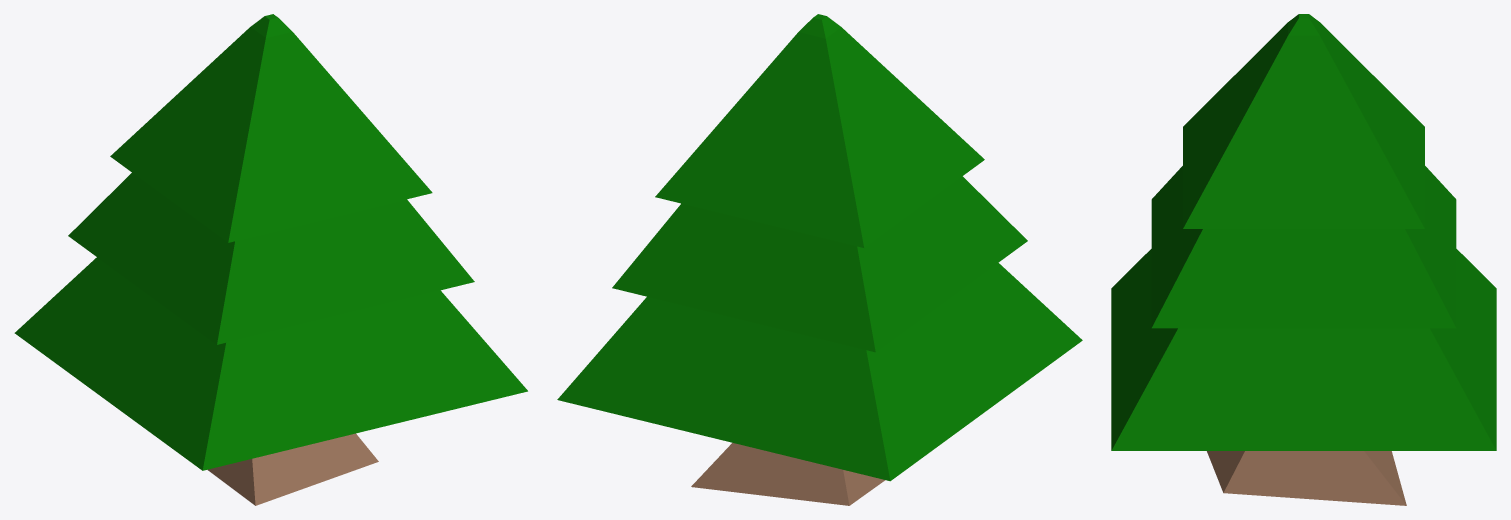
The model's file is sapin(1).fbx.
The picture shows the model from 3 angles, left to right: view 1: azimuth 30°, elevation 25°; view 2: azimuth 150°, elevation 25°; view 3: azimuth 270°, elevation 25°; orthographic projection. The views are drawn at different scales.
Visible parts, largest first — view 1: Cube; view 2: Cube; view 3: Cube.
Boxes of the visible parts, x1,y1,x2,y2 form: Cube: (14,14,527,505); Cube: (557,14,1082,505); Cube: (1111,14,1496,505).
Bounding box in the file's own units: 478 × 619 × 478.
